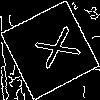X: (25, 24, 82, 76)
